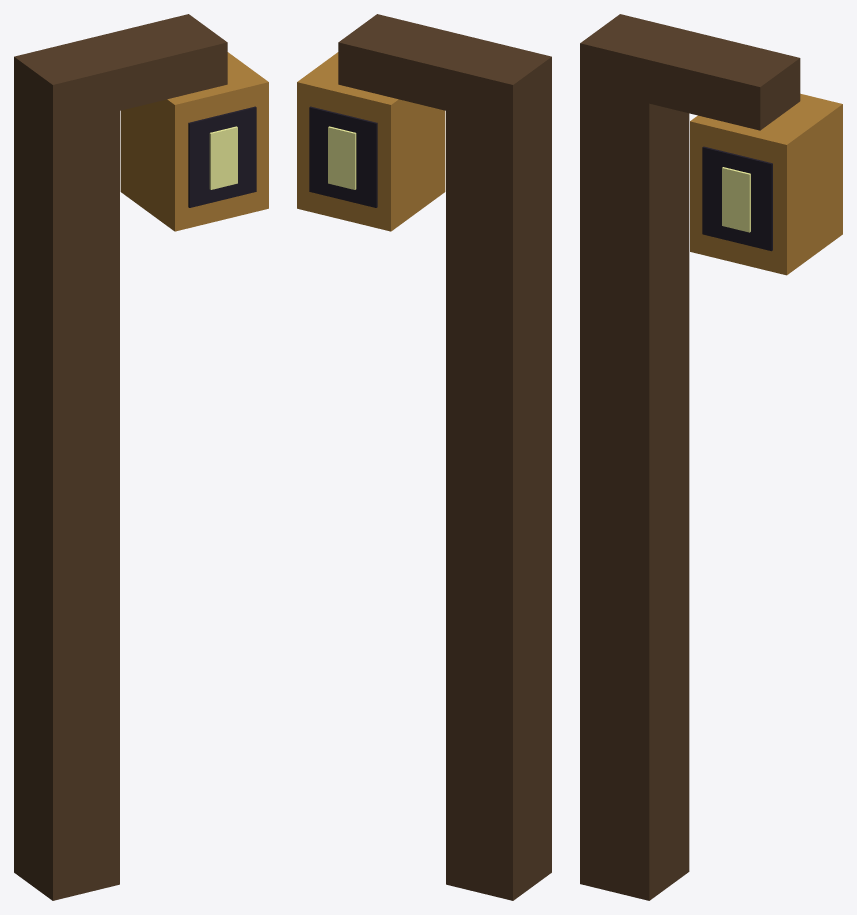
File: lamp_post.glb
3 views of the same model, side by side, from view 1: azimuth 30°, elevation 25°; view 2: azimuth 150°, elevation 25°; view 3: azimuth 330°, elevation 25° (orthographic). The views are drawn at different scales.
Visible parts, largest first — view 1: lamp_post; view 2: lamp_post; view 3: lamp_post.
Boxes of the visible parts, x1=… form: lamp_post: x1=14, y1=14, x2=268, y2=900; lamp_post: x1=297, y1=14, x2=551, y2=900; lamp_post: x1=580, y1=14, x2=842, y2=900.
Bounding box in the file's own units: 0.1937 × 0.725 × 0.0955.
